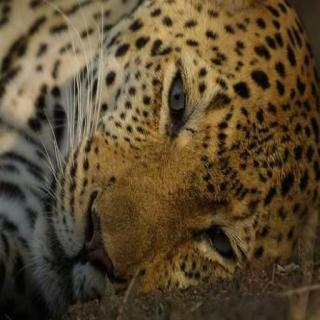Leopard: (13, 0, 299, 286)
